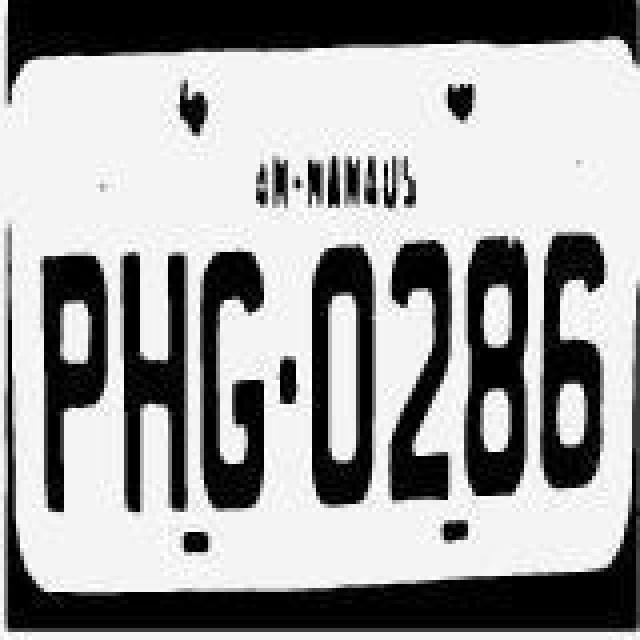2: (388, 234, 460, 518)
6: (542, 226, 610, 510)
8: (462, 228, 530, 508)
G: (200, 240, 272, 520)
H: (112, 248, 192, 520)
O: (310, 238, 378, 522)
P: (32, 246, 112, 522)
